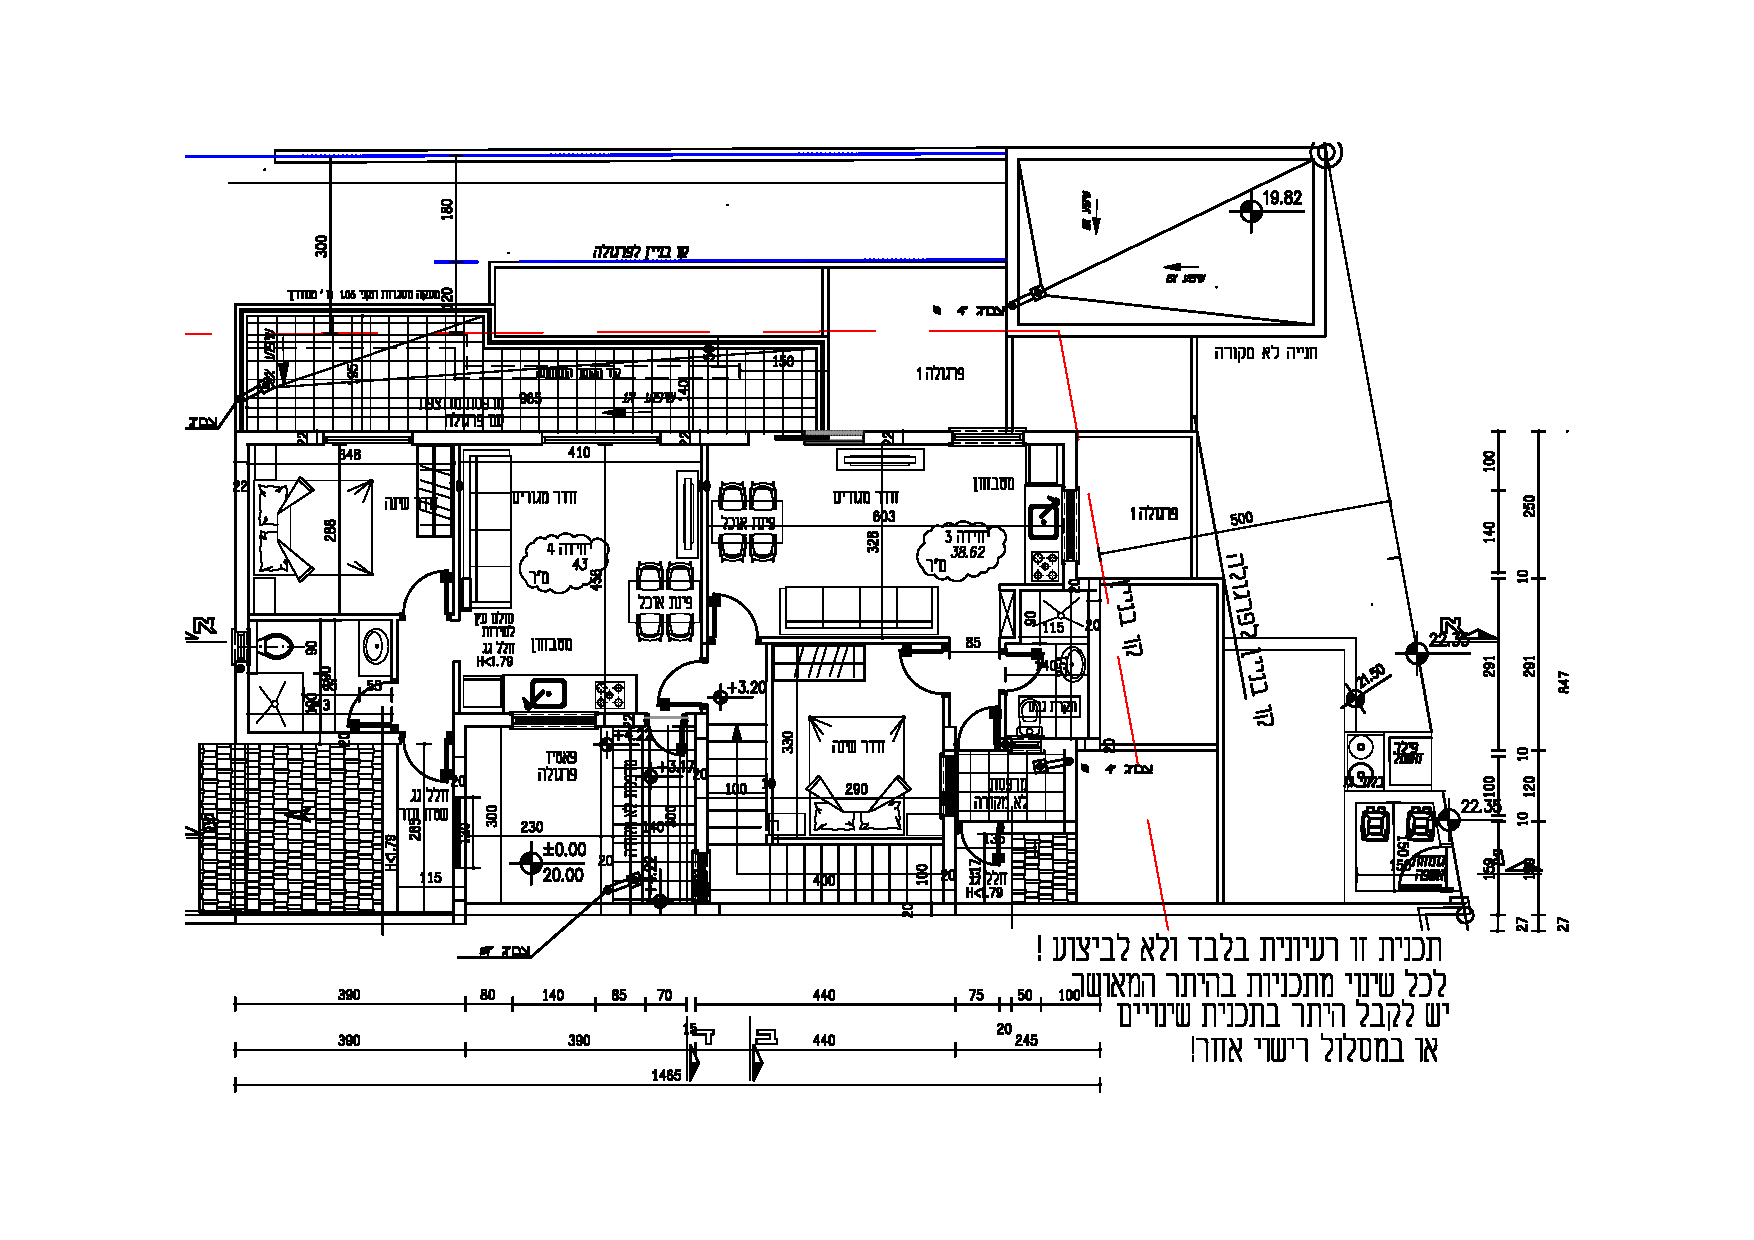door: (894, 645, 960, 701), (711, 584, 761, 654), (400, 727, 456, 784), (344, 678, 407, 727), (403, 566, 450, 628), (960, 699, 998, 749)
window: (531, 427, 678, 450)
